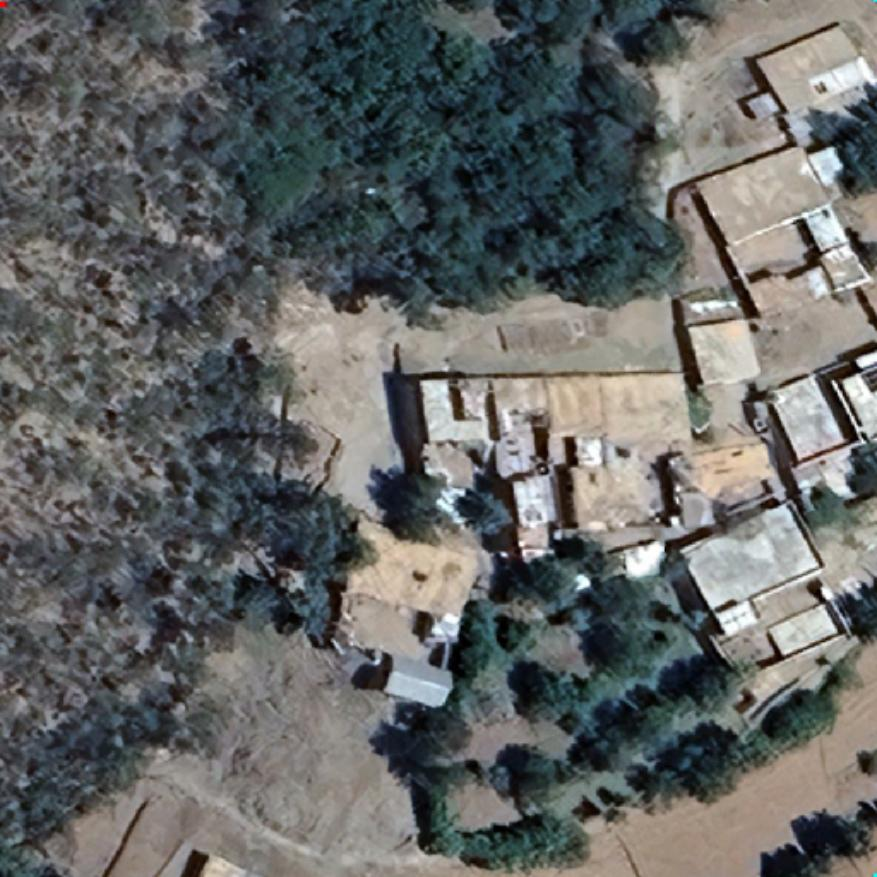Solarpanel: (858, 362, 877, 394)
